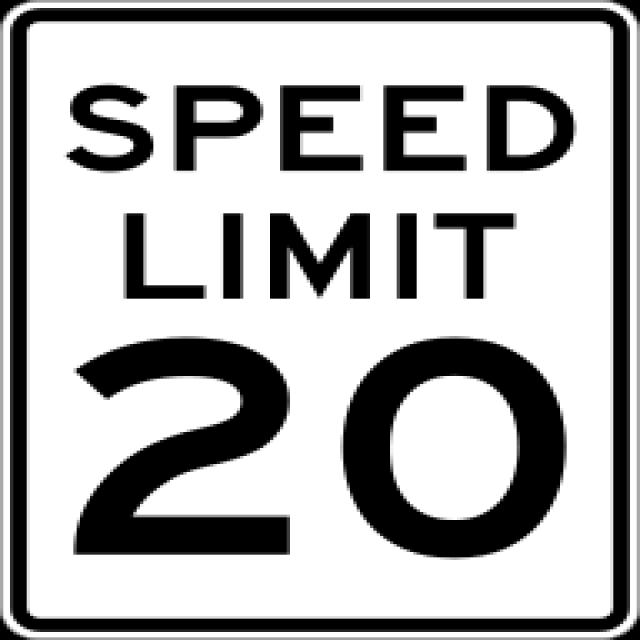Speed Limit -20-: (63, 334, 575, 566)
